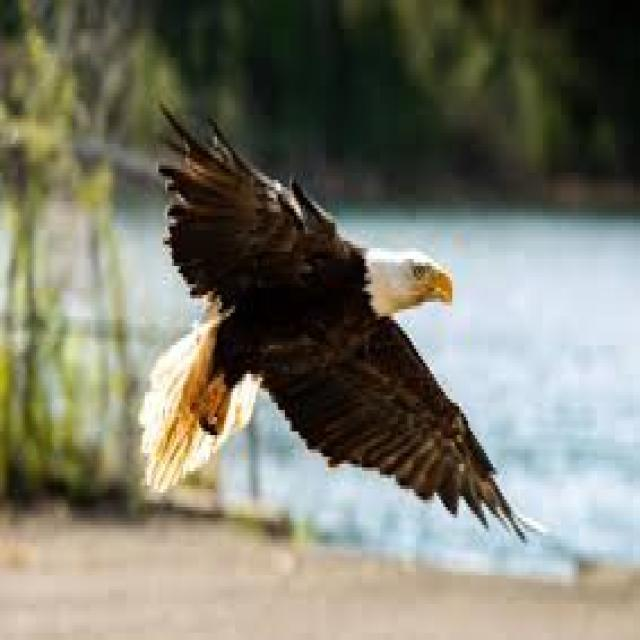Eagle: (137, 96, 501, 503)
